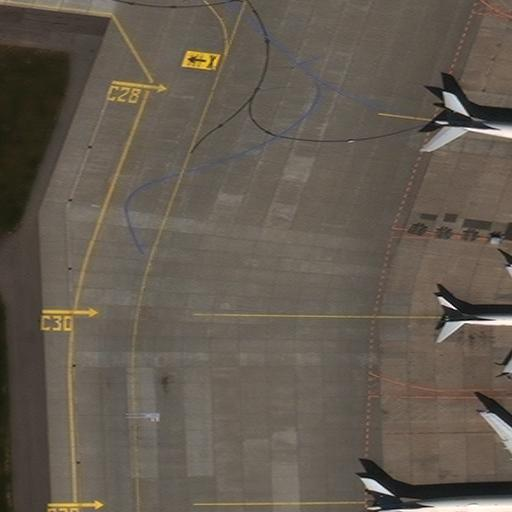Large Civil Transport: (363, 412, 512, 512), (430, 85, 512, 209)
Medium Civil Transport: (437, 265, 512, 375)
